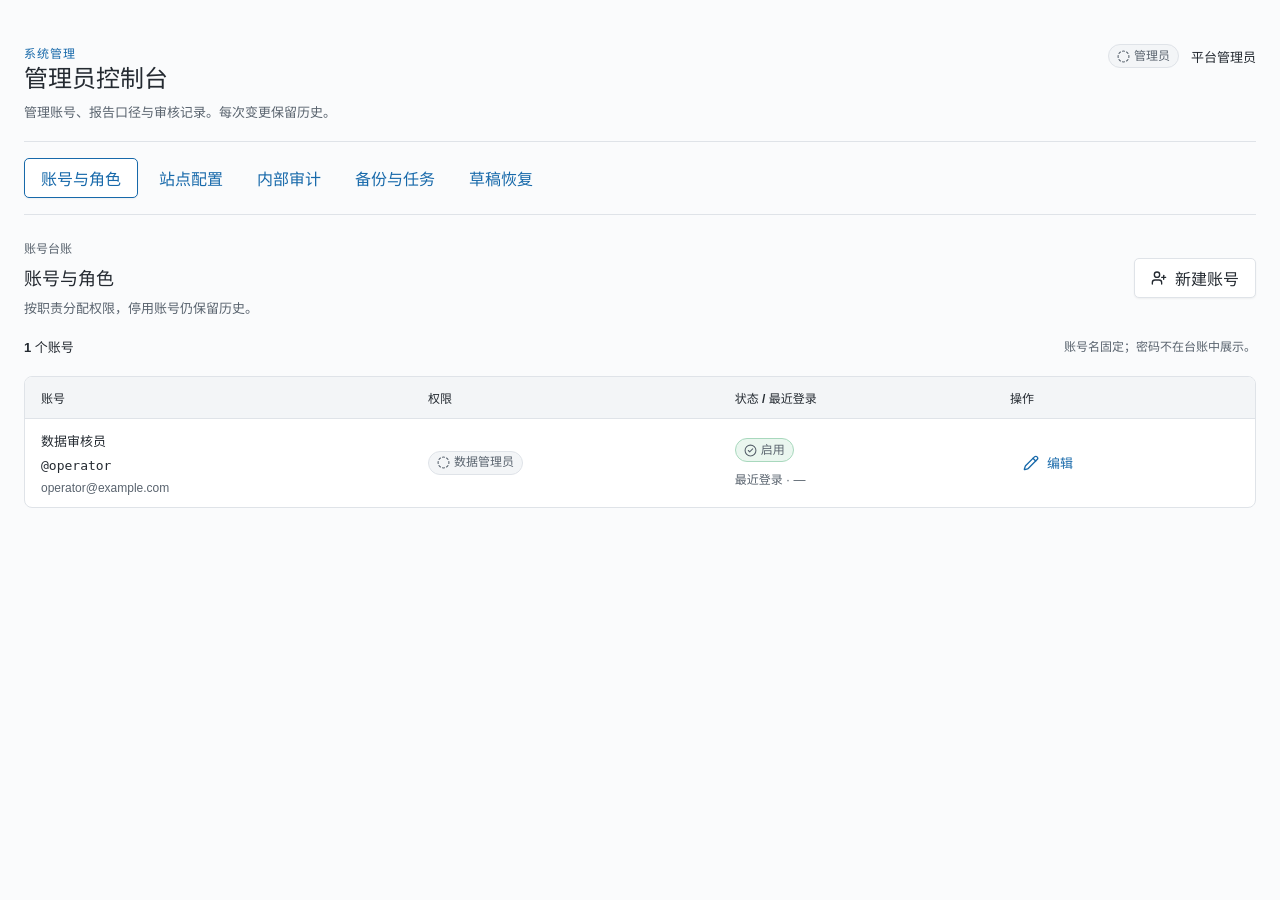
it: AdminConsole › updates mutable account fields with expected_updated_at and refreshes on conflict
Expected: the text "数据审核员" is shown, 41,431 -> 106,450
Click the button with aria-label "编辑 operator" at point(1048, 463), box 1010,445 -> 1086,481
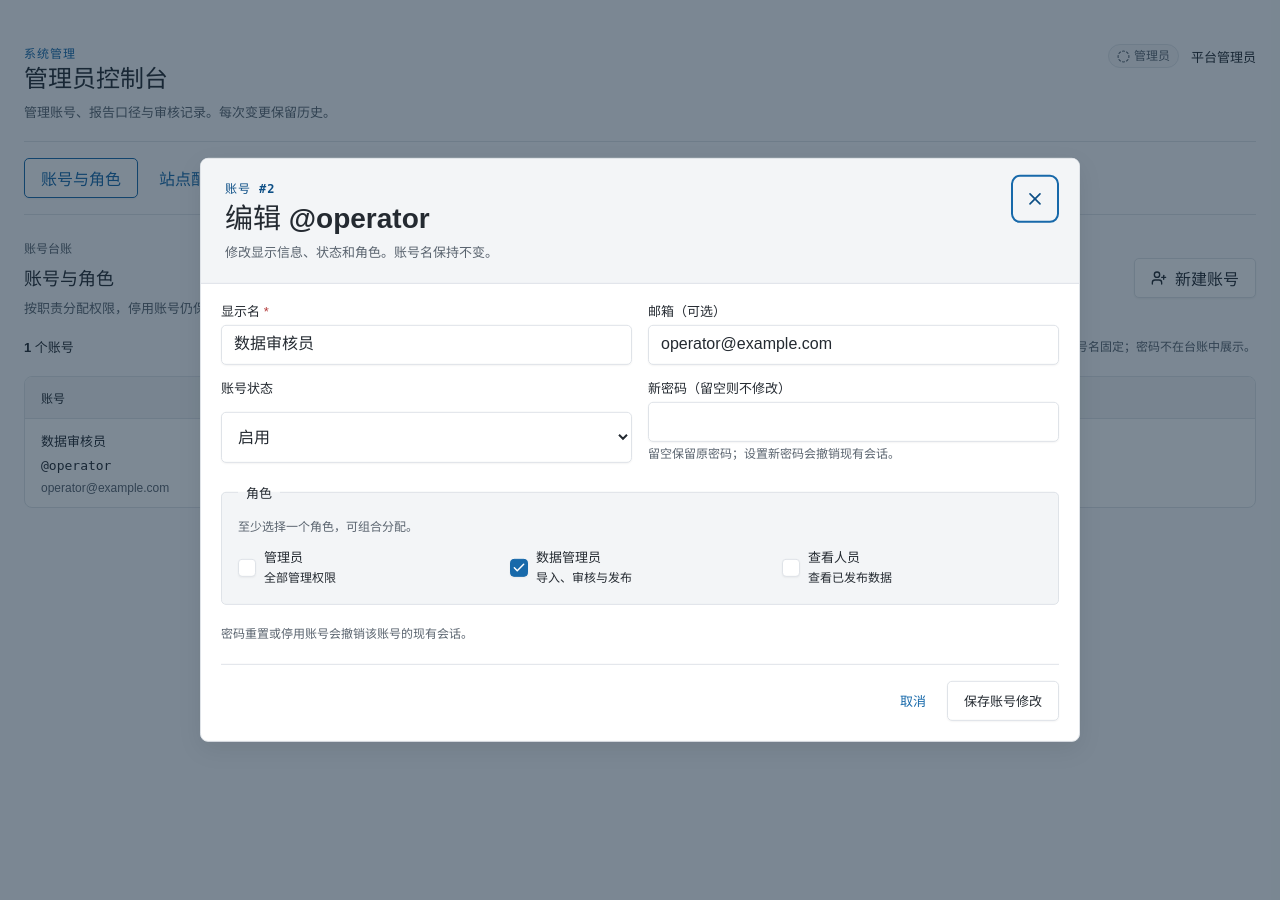
Replace the text in the field labelled "显示名" with "审核负责人" at point(426, 345), box 221,325 -> 632,365
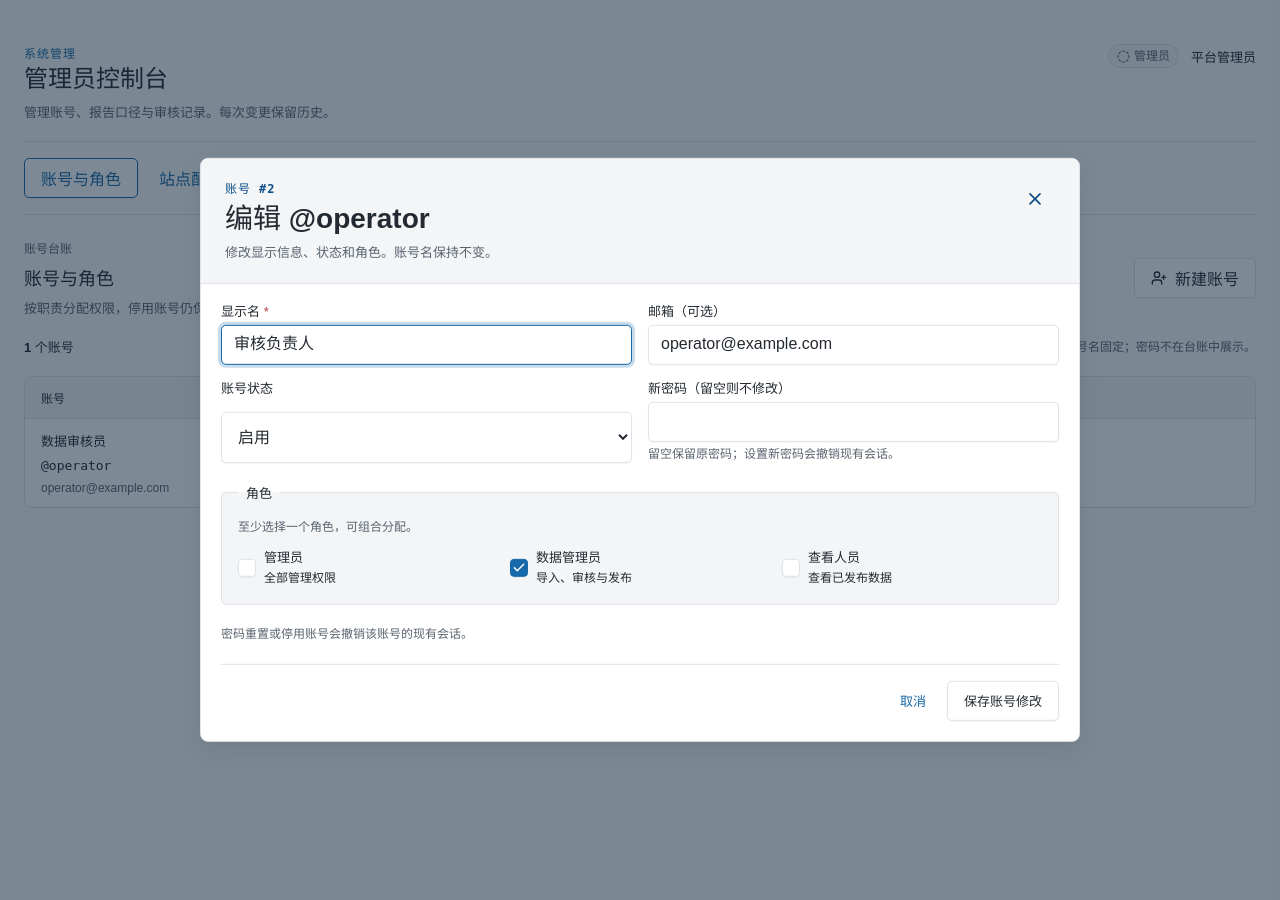
Select "停用" in the dropdown labelled "账号状态" at point(426, 437), box 221,412 -> 632,462
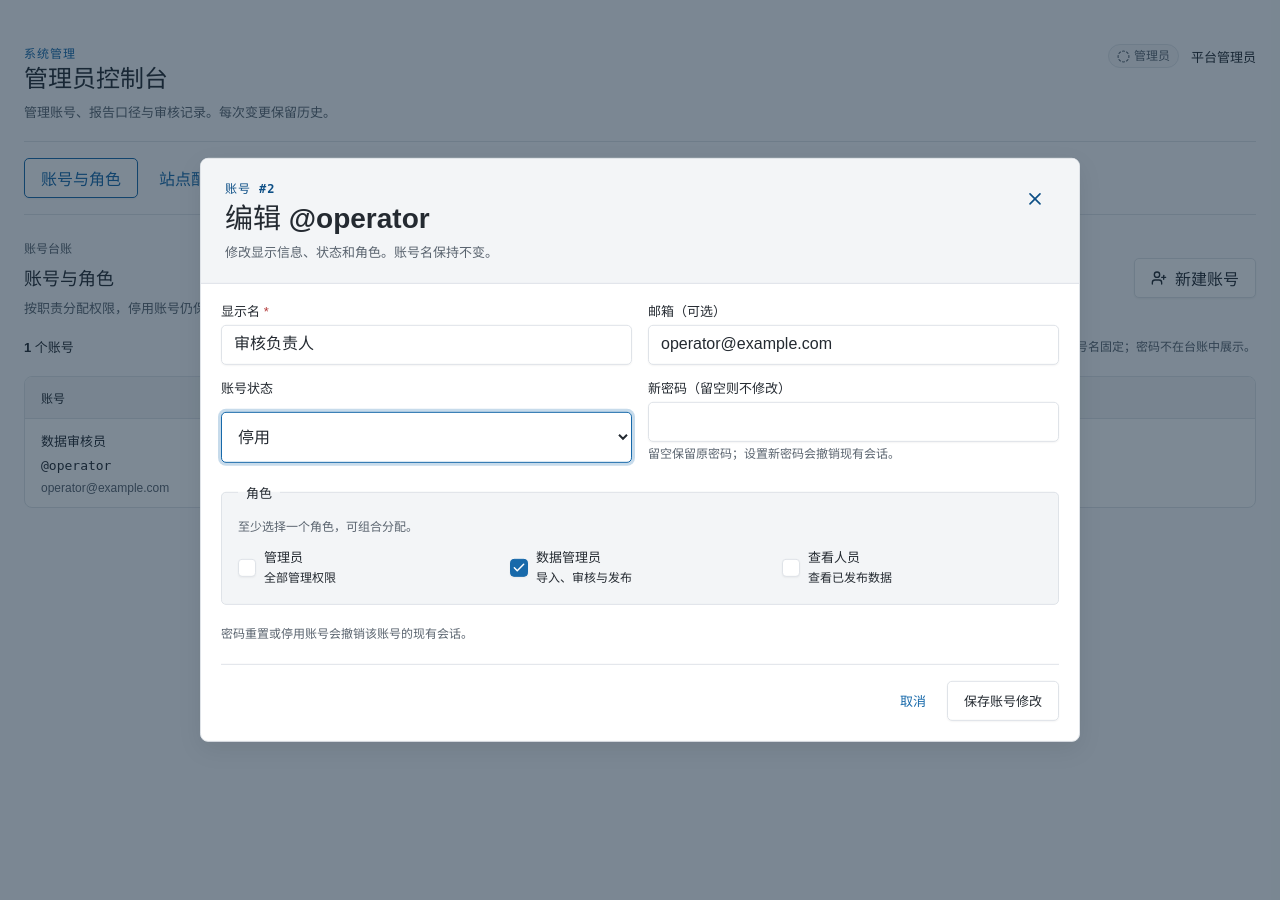
Type "Another-Password-42" into the password field labelled "新密码（留空则不修改）" at point(854, 422), box 648,402 -> 1059,442
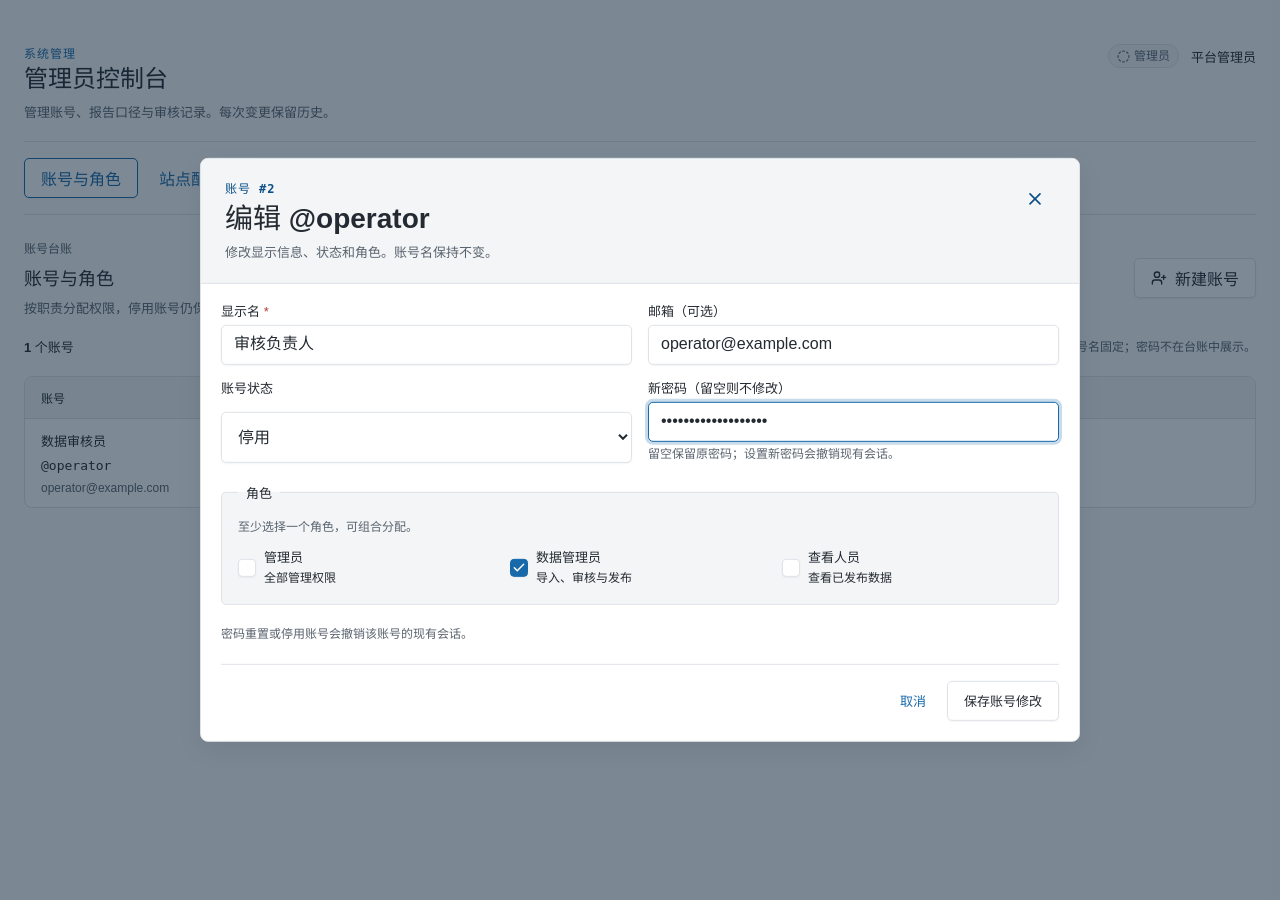
Click the button "保存账号修改" at point(1003, 701), box 947,681 -> 1059,721
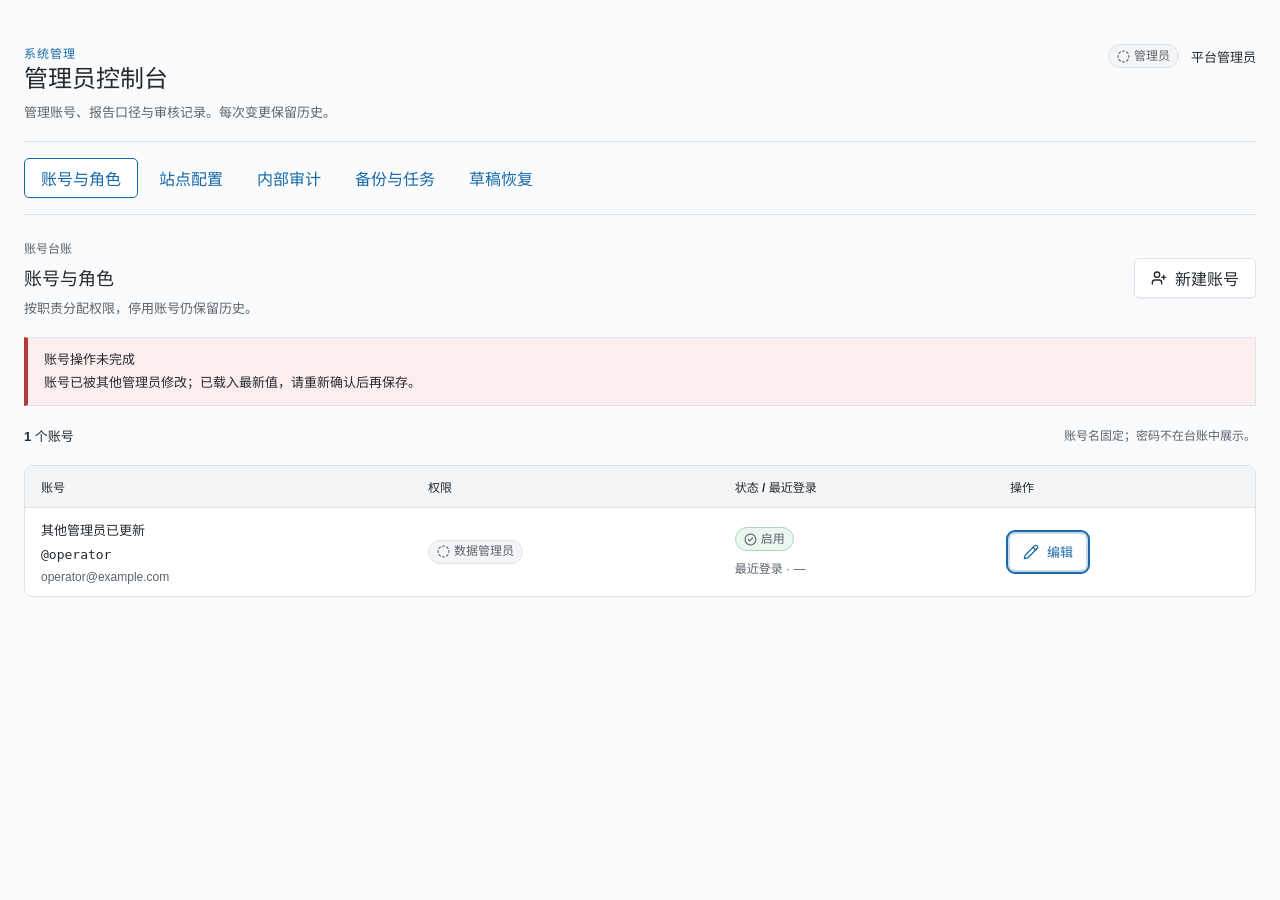
Expected: the text "账号已被其他管理员修改；已载入最新值，请重新确认后再保存。" is shown, 44,373 -> 421,393
Expected: the text "其他管理员已更新" is shown, 41,520 -> 145,539
Expected: the label labelled "新密码（留空则不修改）" is gone
